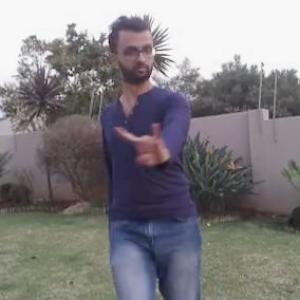takeoff-hand: (113, 115, 174, 169)
